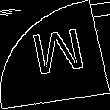M_S: (23, 25, 87, 85)
